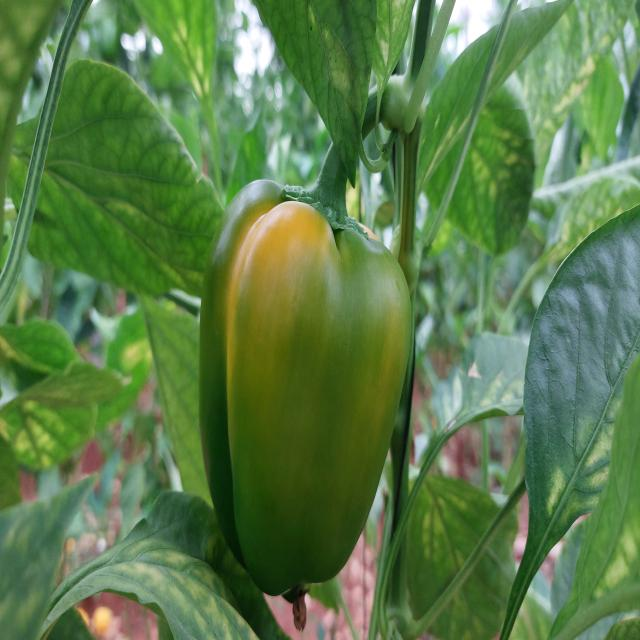GreenishYellow--Can-be-Harvested: (190, 160, 423, 597)
